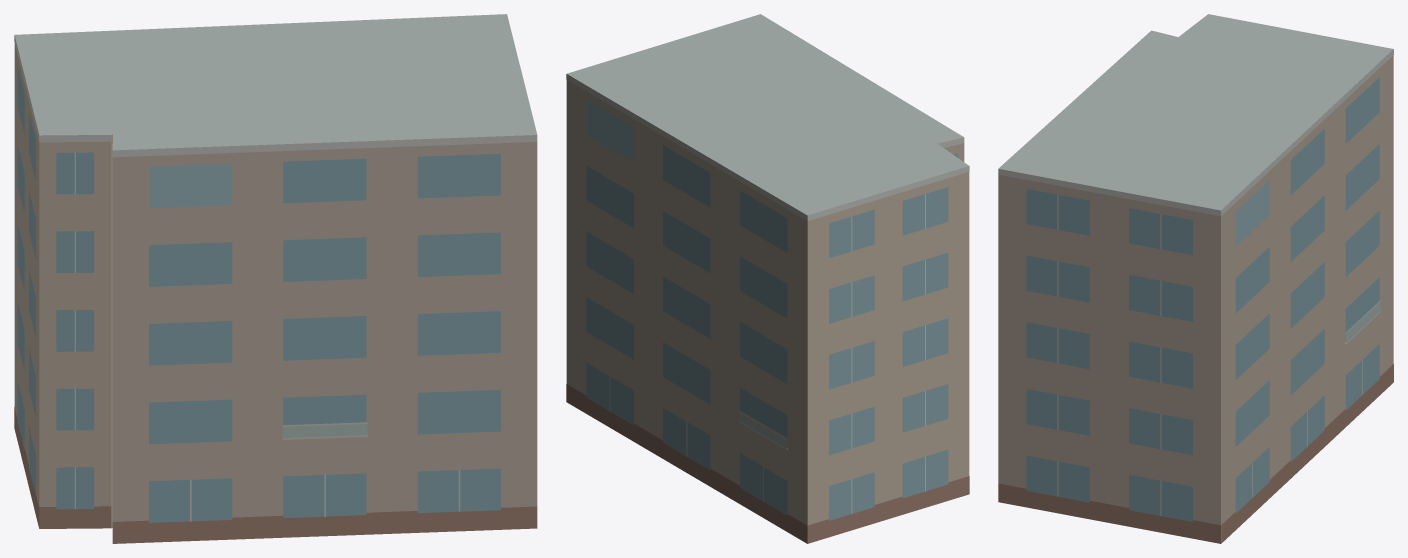
The model's file is survey-upis-32517196.glb.
The picture shows the model from 3 angles, left to right: view 1: azimuth 30°, elevation 25°; view 2: azimuth 150°, elevation 25°; view 3: azimuth 270°, elevation 25°; orthographic projection. The views are drawn at different scales.
Parts seen in each view (by area): view 1: survey-upis-32517196.tmp; view 2: survey-upis-32517196.tmp; view 3: survey-upis-32517196.tmp.
Part boxes in pixels (x1=…): survey-upis-32517196.tmp: x1=14, y1=14, x2=537, y2=543; survey-upis-32517196.tmp: x1=566, y1=14, x2=969, y2=543; survey-upis-32517196.tmp: x1=998, y1=14, x2=1393, y2=543.
Bounding box in the file's own units: 17.58 × 13.9 × 14.95.
